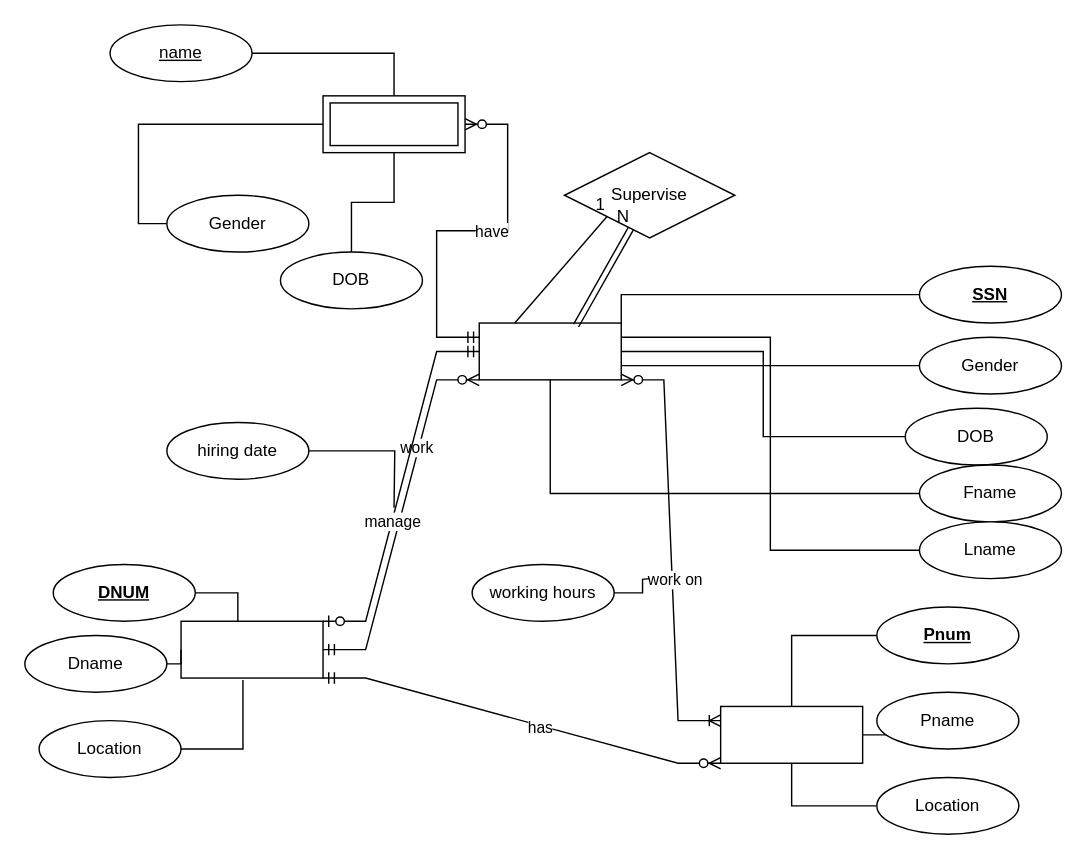
Image size: 1086x859. Some labels were removed from this diagram. Each missing label, with the centre of its shape:
"Department" goes at (251,649).
"Dependent" goes at (393,123).
"Employee" goes at (549,351).
"Project" goes at (791,734).
